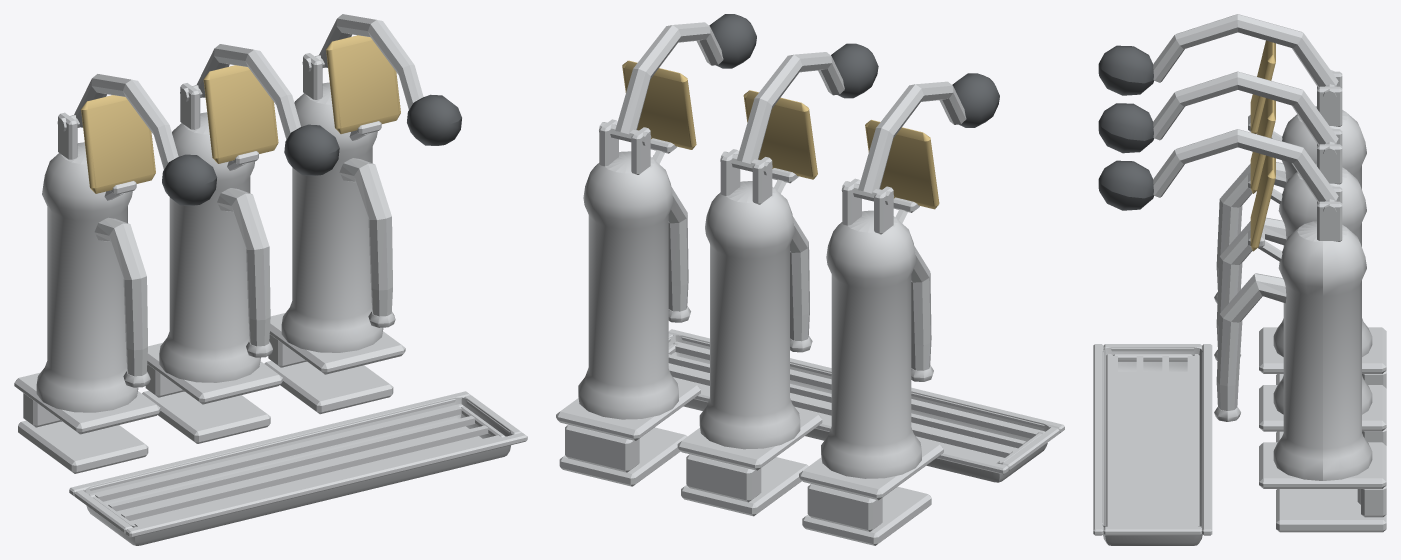
File: bar-pub-and-brewery-taproom-hand-pull-set-3-d3b7ad35__18347.glb
3 views of the same model, side by side, from view 1: azimuth 30°, elevation 25°; view 2: azimuth 150°, elevation 25°; view 3: azimuth 270°, elevation 25° (orthographic). The views are drawn at different scales.
Parts seen in each view (by area): view 1: hand-pull-set-3; view 2: hand-pull-set-3; view 3: hand-pull-set-3.
Part boxes in pixels (<box>): hand-pull-set-3: <box>14,14,527,545</box>; hand-pull-set-3: <box>556,14,1064,545</box>; hand-pull-set-3: <box>1093,14,1386,545</box>.
Bounding box in the file's own units: 0.52 × 0.5015 × 0.345.
